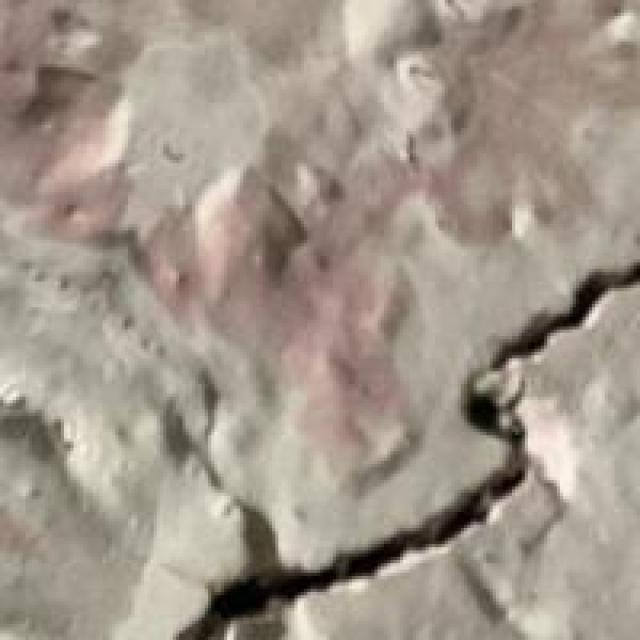Crack: (179, 240, 637, 637)
